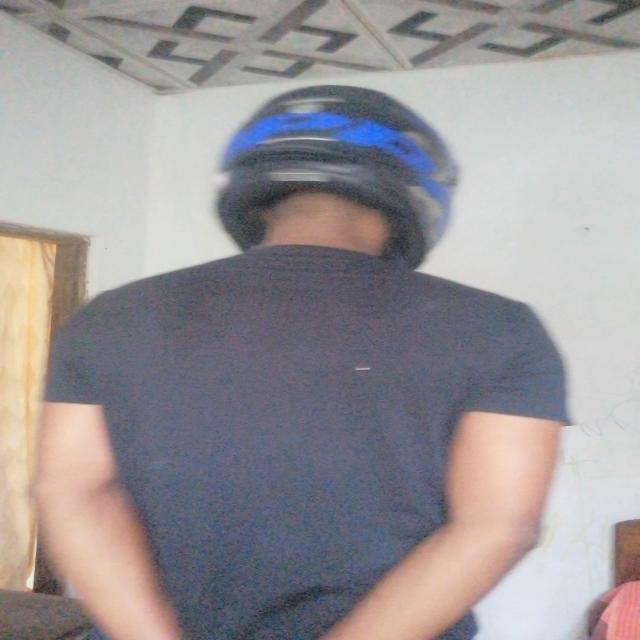Helmet_Wearer: (192, 76, 482, 304)
